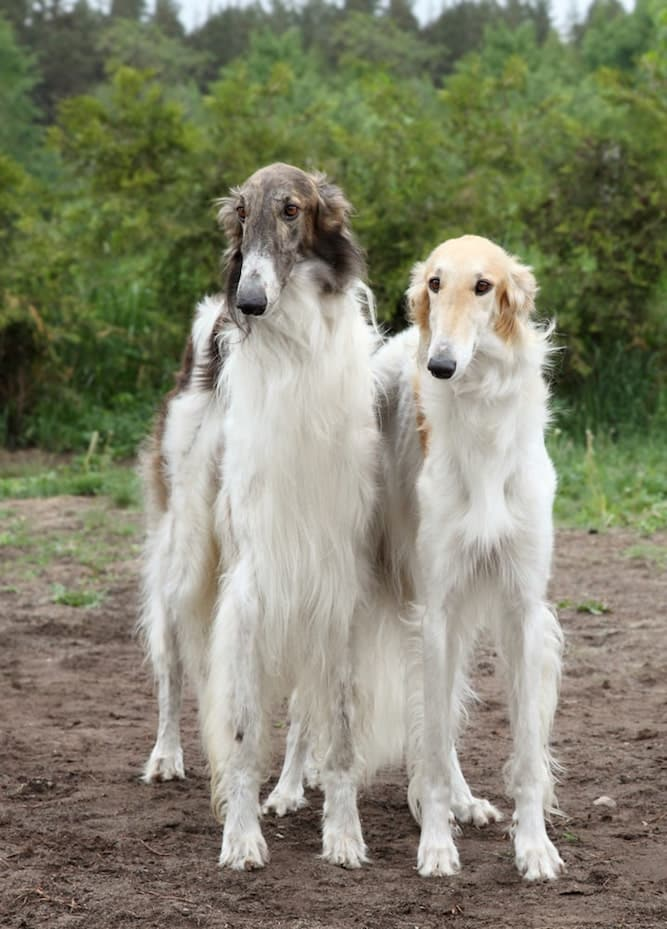borzoi: (156, 154, 362, 883), (374, 214, 588, 890)
